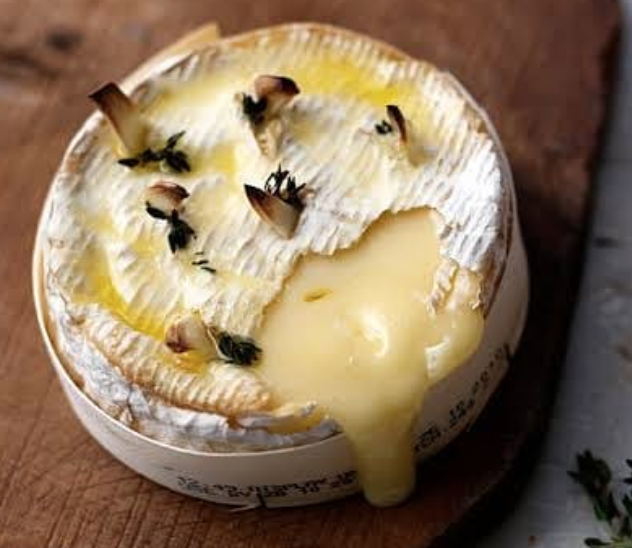camembert: (37, 21, 515, 482)
